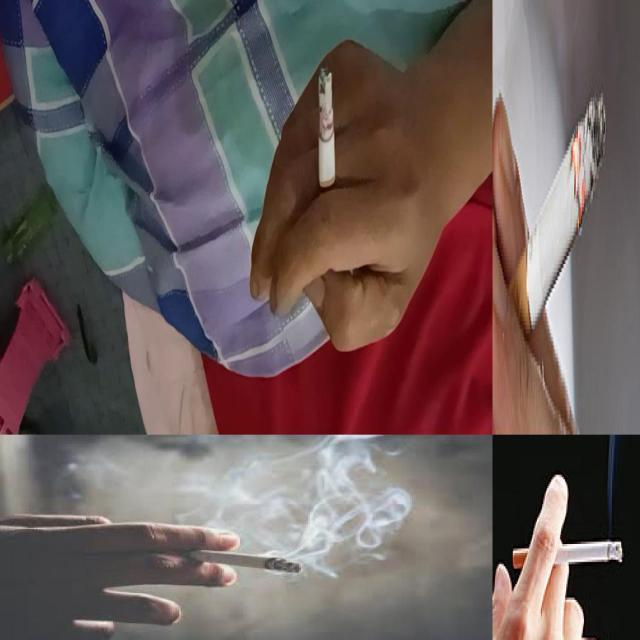smoking: (492, 88, 608, 379), (158, 549, 304, 574), (512, 540, 622, 570), (318, 67, 336, 220)
